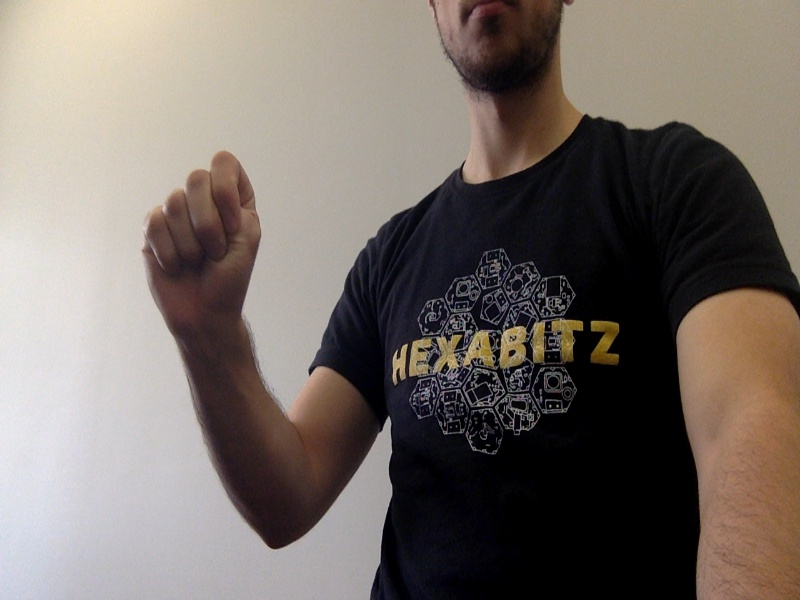0-hand: (144, 152, 261, 330)
